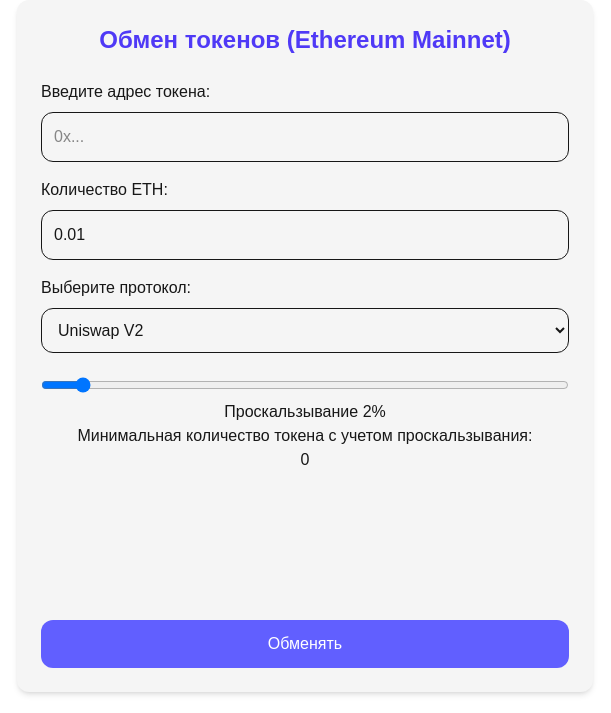
Test: TokenSwap › обновляет значение проскальзывания при перемещении слайдера
Note: Изменяем значение слайдера
Set the slider to "10" at (220, 385), box [41,377,569,393]
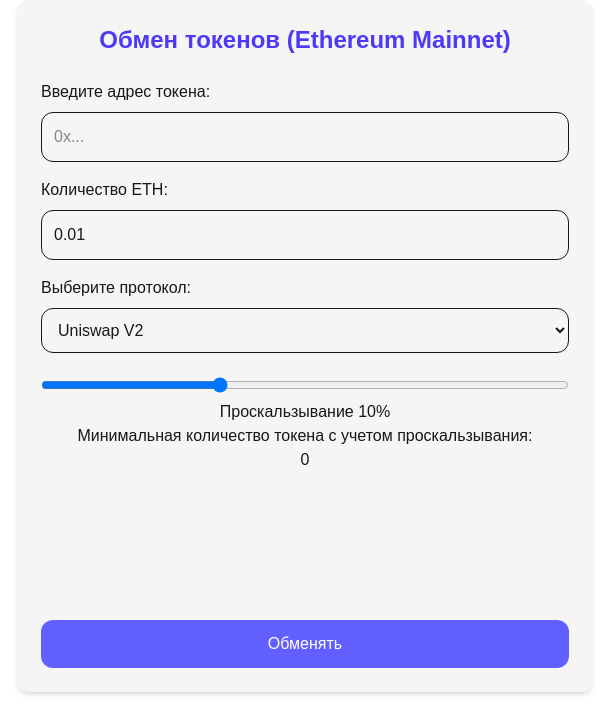
Expected: the text "Проскальзывание 10%" is shown, [41,400,569,472]
